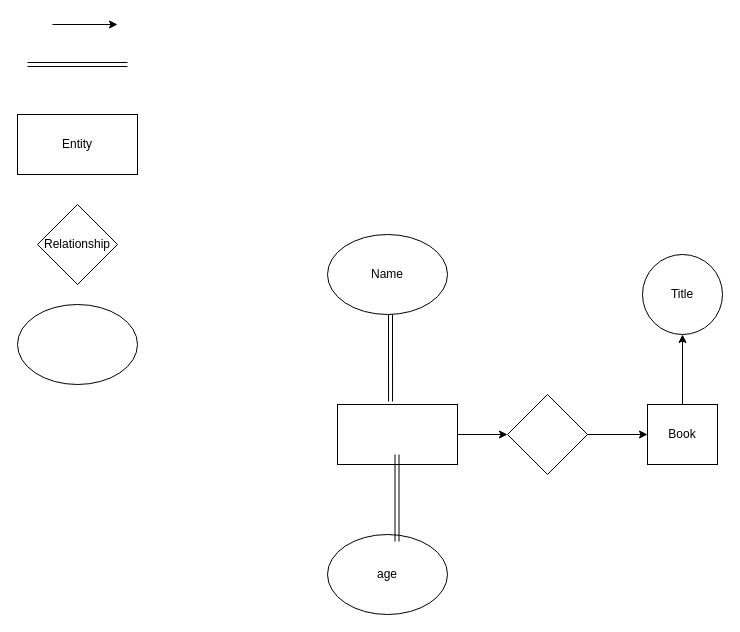
Image size: 740x632. Some labels were removed from this diagram. The shapes that lost their labels are listed below. From the top down, each one's centre as x and y in pixels, then its label:
the point at 77,344: Attribute
the point at 397,434: Author
the point at 547,434: writes
